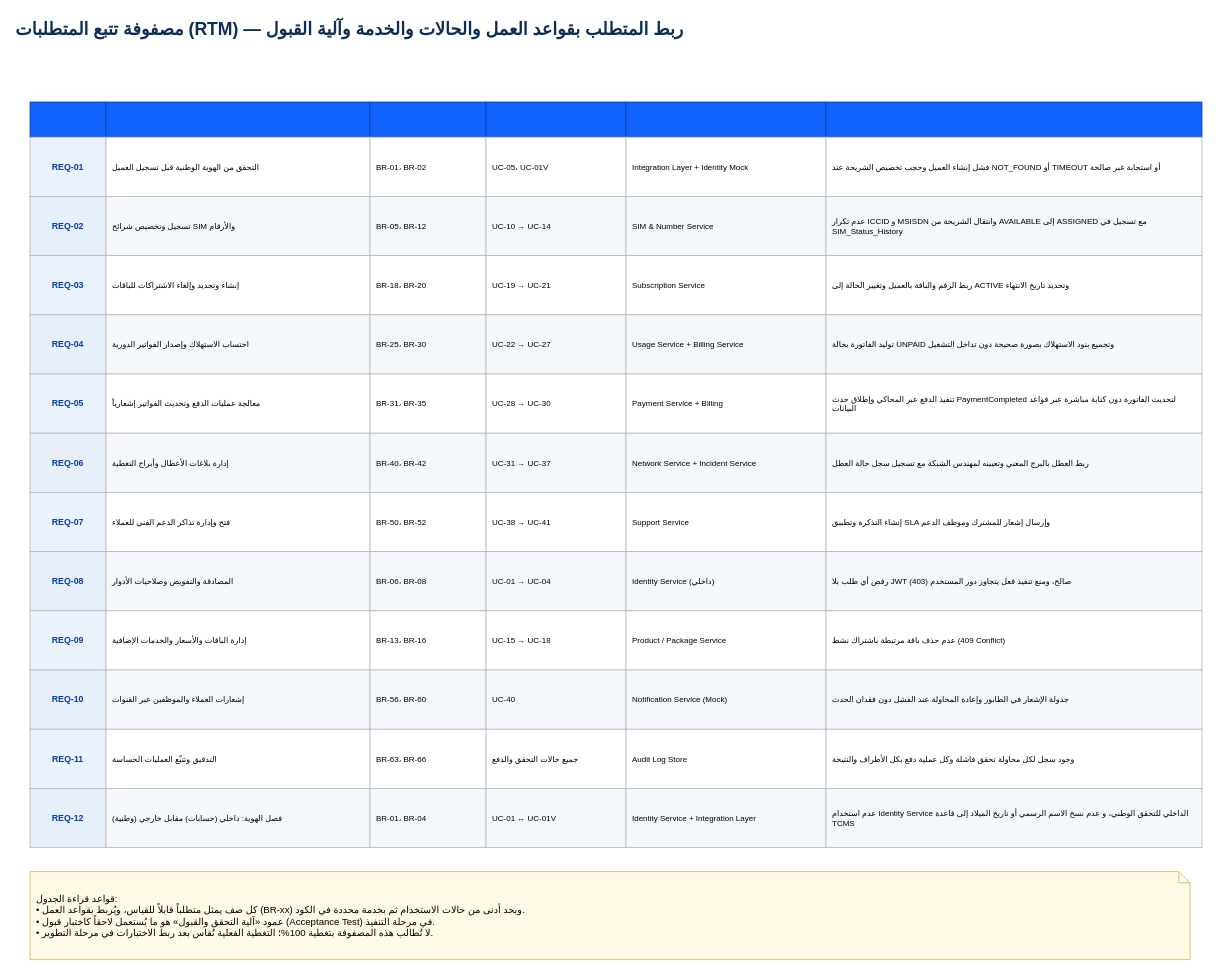
Image size: 1227x974. Some labels were removed from this diagram. The shapes that lost their labels are listed below. From the top down, each one's centre as x and y in pixels, then its label:
At [67,119]: "المتطلب".
At [237,119]: "الوصف الوظيفي".
At [427,119]: "قواعد العمل".
At [555,119]: "حالات الاستخدام".
At [725,119]: "الخدمة / الوحدة المسؤولة".
At [1013,119]: "آلية التحقق والقبول".
